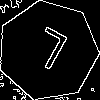L: (23, 26, 70, 80)
